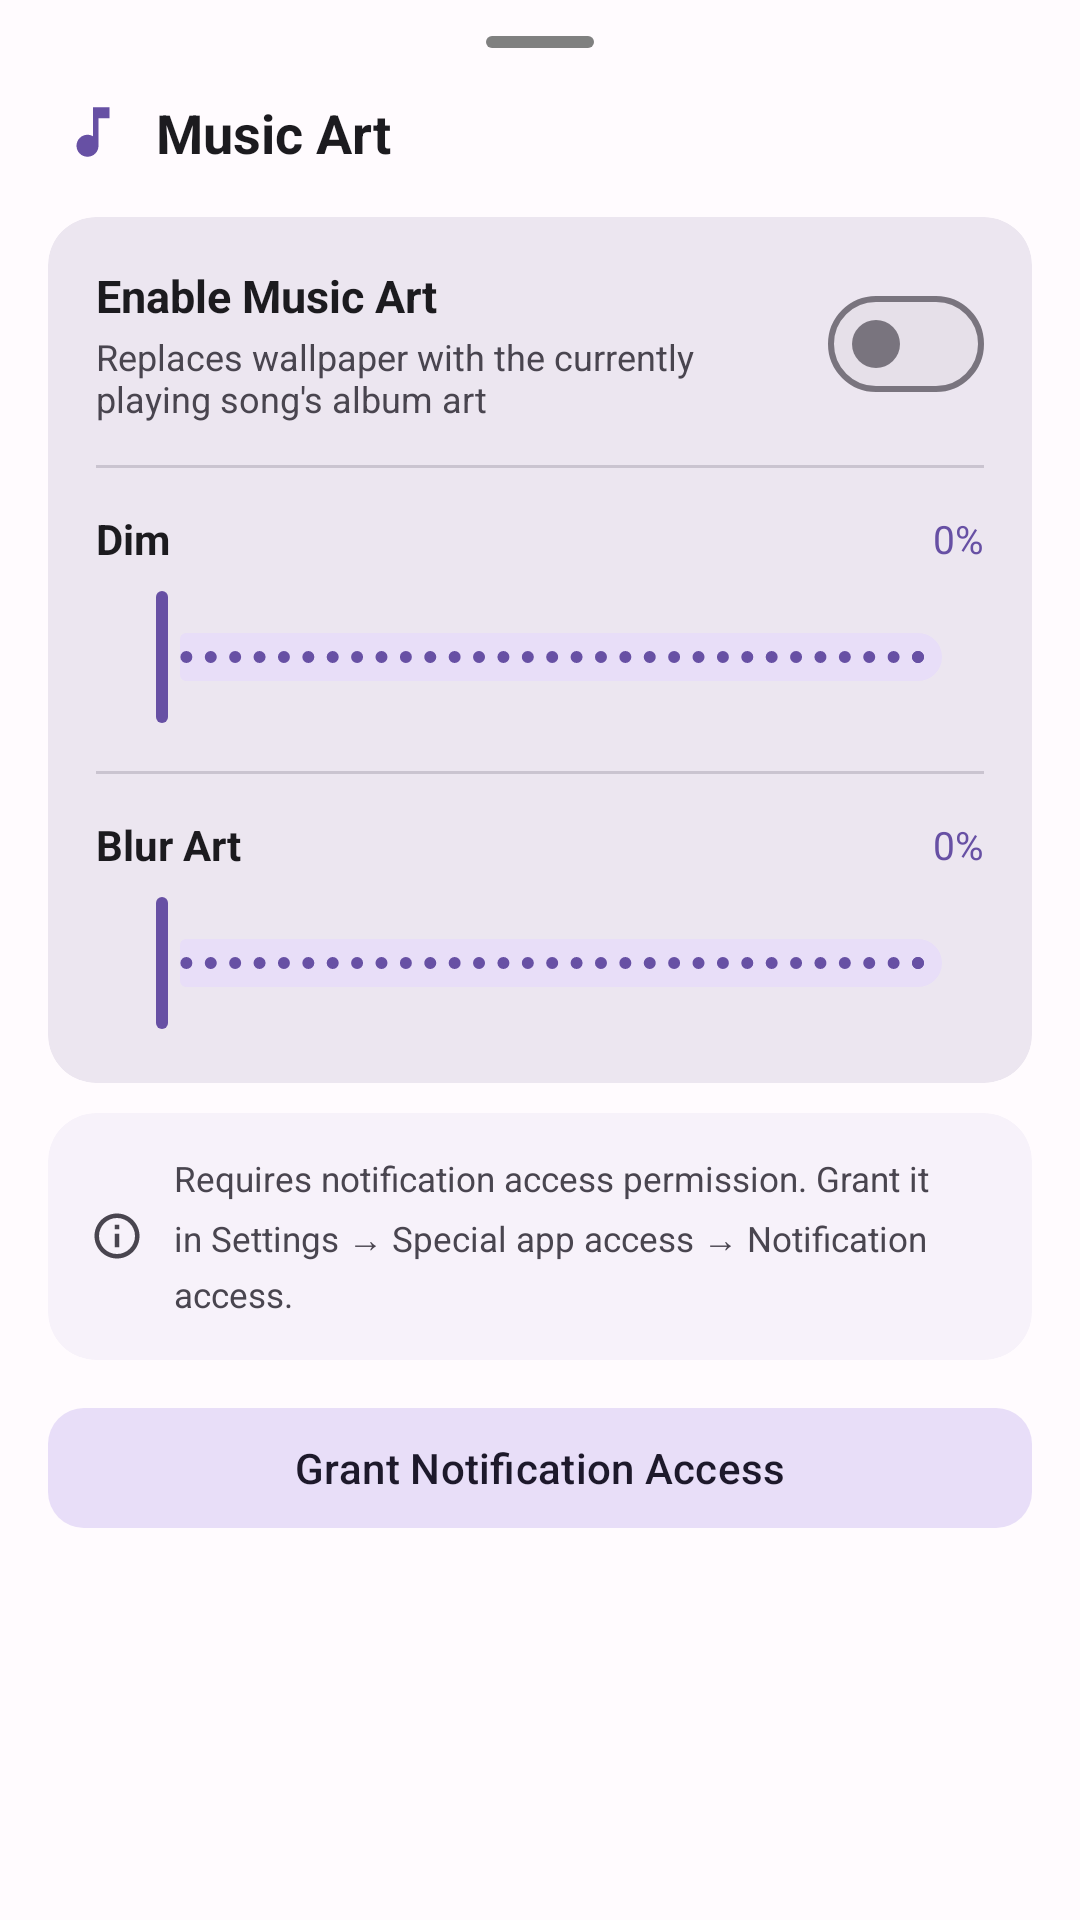

Screen size 1080w x 1920h. Icon name, then its center in pixels as [x,y]:
info: [117,1236]
